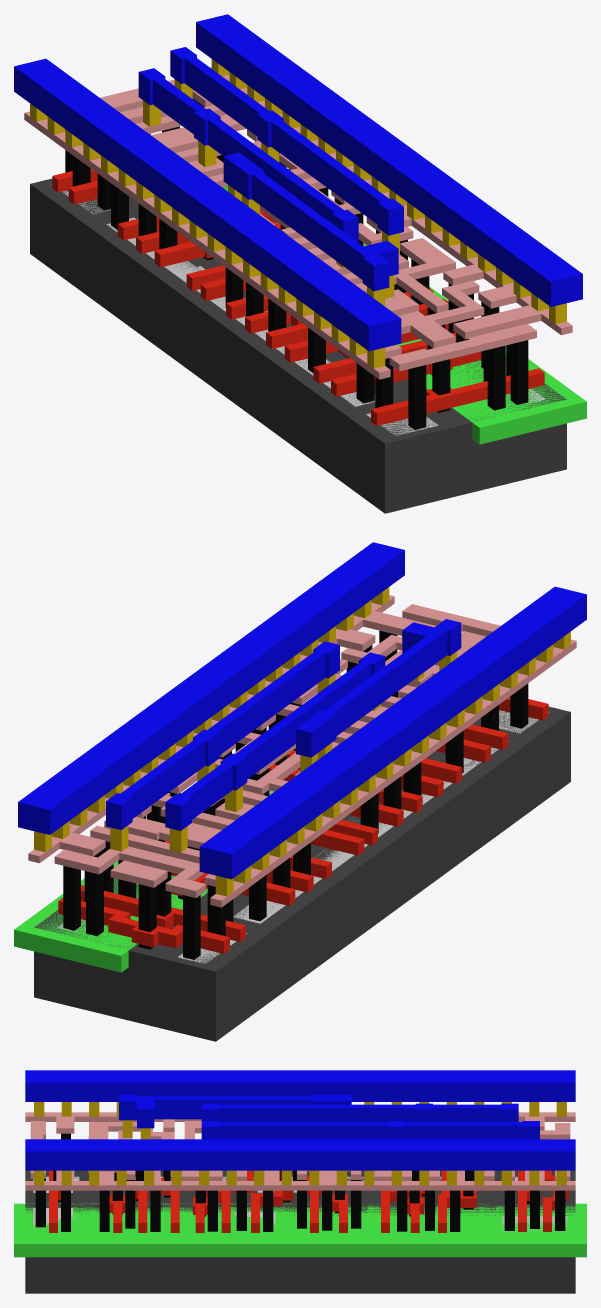
The model's file is sky130_fd_sc_hd__dfrtn_1.obj.
3 views of the same model, one above another, from view 1: azimuth 30°, elevation 25°; view 2: azimuth 150°, elevation 25°; view 3: azimuth 270°, elevation 25° (orthographic). The views are drawn at different scales.
Parts seen in each view (by area): view 1: metal1, subs, li, licon, poly, mcon, nwell, diff; view 2: metal1, subs, li, licon, poly, mcon, nwell, diff; view 3: metal1, subs, nwell, li, licon, poly, mcon, tap.
Part boxes in pixels (x1=…): metal1: x1=14, y1=14, x2=582, y2=351; subs: x1=30, y1=178, x2=566, y2=513; li: x1=24, y1=67, x2=572, y2=379; licon: x1=65, y1=98, x2=528, y2=429; poly: x1=52, y1=156, x2=544, y2=425; mcon: x1=30, y1=59, x2=566, y2=368; nwell: x1=222, y1=186, x2=586, y2=444; diff: x1=51, y1=184, x2=438, y2=435; metal1: x1=18, y1=542, x2=586, y2=879; subs: x1=34, y1=706, x2=570, y2=1041; li: x1=28, y1=595, x2=576, y2=907; licon: x1=63, y1=630, x2=528, y2=959; poly: x1=58, y1=696, x2=548, y2=953; mcon: x1=34, y1=587, x2=570, y2=896; nwell: x1=14, y1=790, x2=273, y2=972; diff: x1=178, y1=710, x2=549, y2=963; metal1: x1=25, y1=1070, x2=575, y2=1170; subs: x1=25, y1=1170, x2=575, y2=1293; nwell: x1=14, y1=1203, x2=586, y2=1257; li: x1=25, y1=1112, x2=575, y2=1190; licon: x1=35, y1=1133, x2=565, y2=1231; poly: x1=49, y1=1170, x2=568, y2=1232; mcon: x1=34, y1=1102, x2=566, y2=1185; tap: x1=33, y1=1208, x2=567, y2=1232.
Size of the model in its own units: 3.2 by 2.74 by 9.58.
